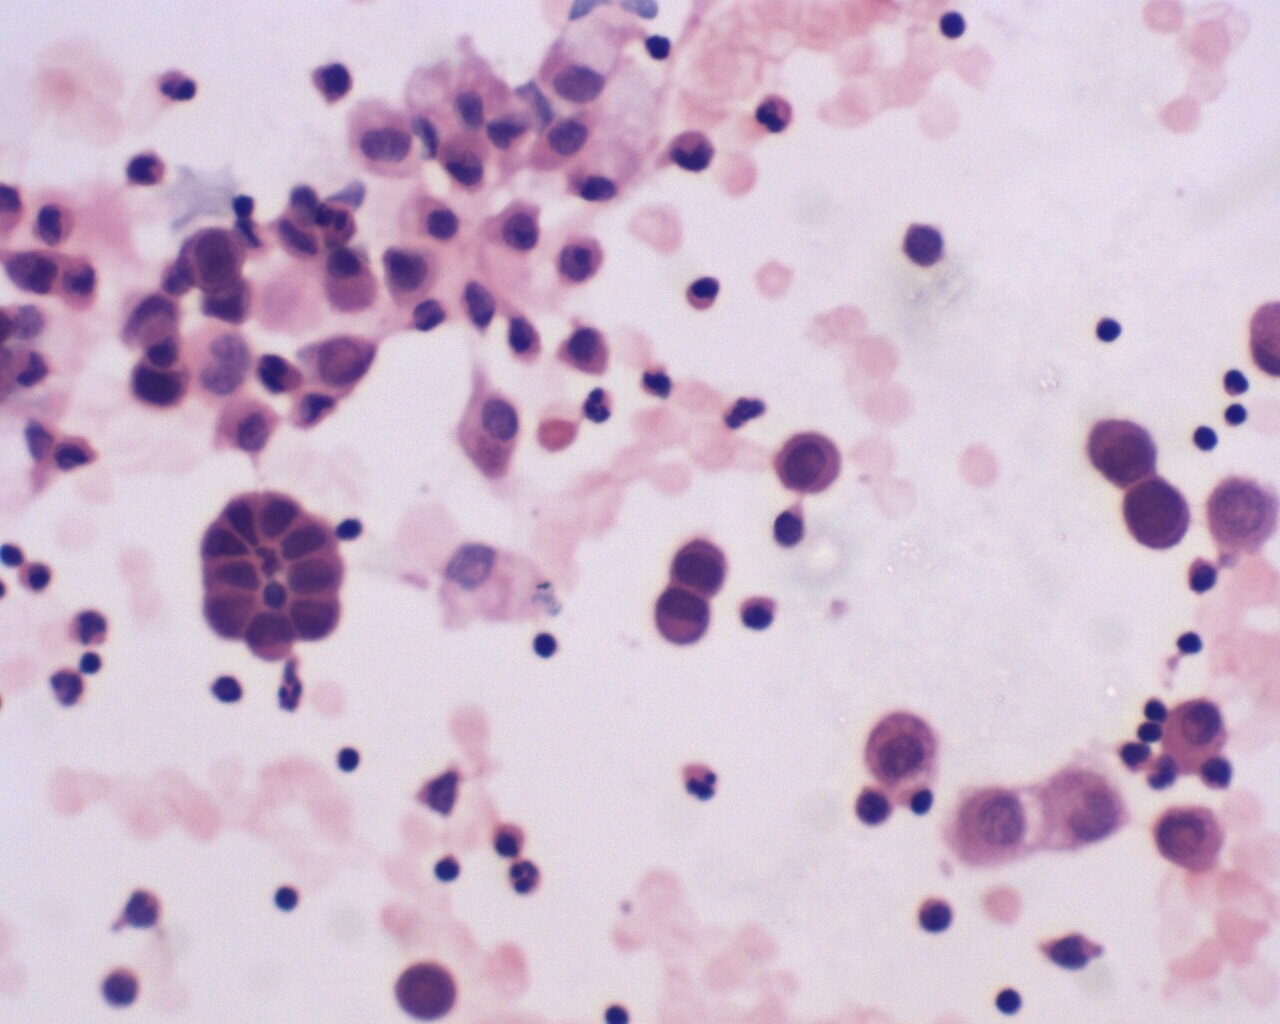ab: (1084, 409, 1162, 487), (1119, 475, 1193, 550), (769, 427, 847, 495), (180, 224, 251, 297), (395, 958, 468, 1022), (671, 536, 734, 598)
lymph: (990, 979, 1034, 1020), (1089, 308, 1126, 350), (933, 8, 971, 48), (529, 627, 565, 666), (329, 739, 366, 775)
meso: (865, 712, 947, 787), (1161, 690, 1230, 774)
neutro: (750, 94, 797, 142), (42, 666, 88, 714), (505, 859, 546, 899), (680, 763, 720, 805), (581, 387, 620, 426)
